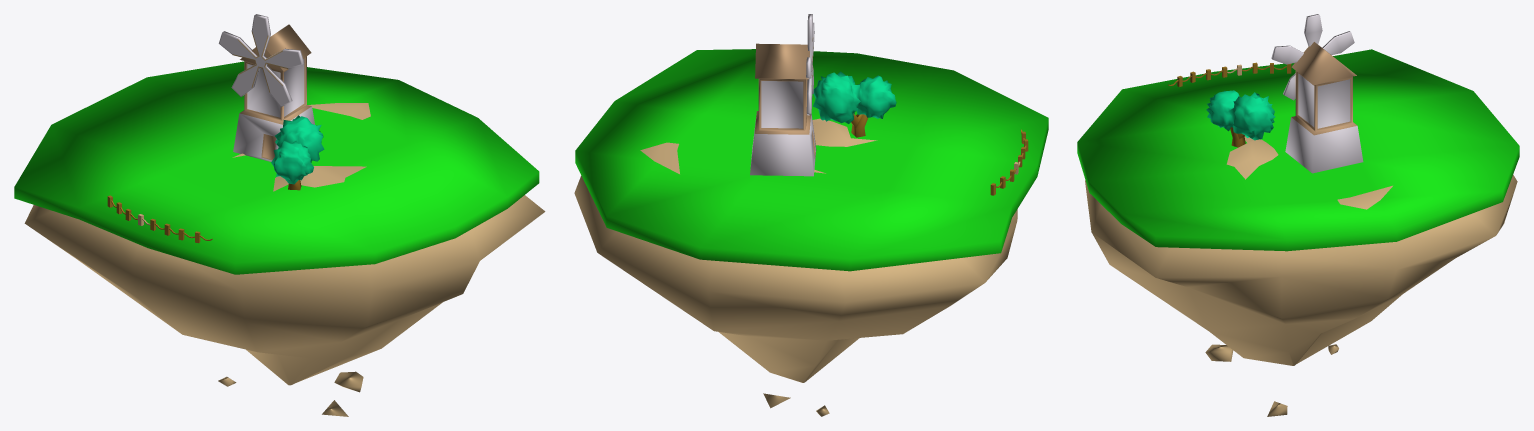
File: illaJocSintesi.fbx
3 views of the same model, side by side, from view 1: azimuth 30°, elevation 25°; view 2: azimuth 150°, elevation 25°; view 3: azimuth 270°, elevation 25° (orthographic). The views are drawn at different scales.
Parts seen in each view (by area): view 1: Cubo.003; view 2: Cubo.003; view 3: Cubo.003.
Part boxes in pixels (x1,y1,x2,y2): Cubo.003: (14,14,545,416); Cubo.003: (574,14,1048,416); Cubo.003: (1077,14,1519,416).
Size of the model in its own units: 301 by 274 by 293.
